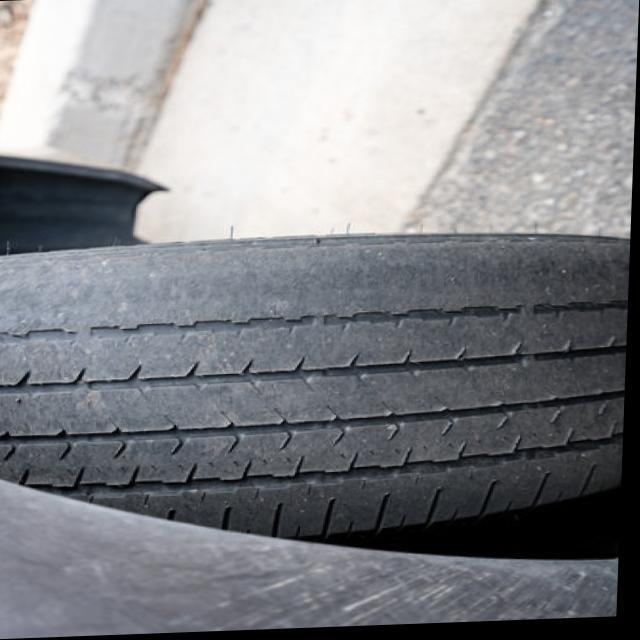Flat spots: (8, 252, 640, 322)
